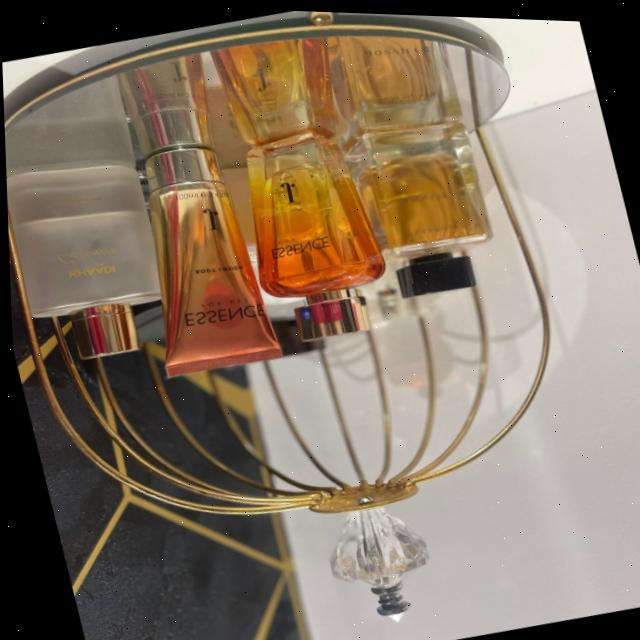foundation: (113, 126, 287, 381)
perfume: (239, 80, 533, 364), (4, 143, 191, 395)
